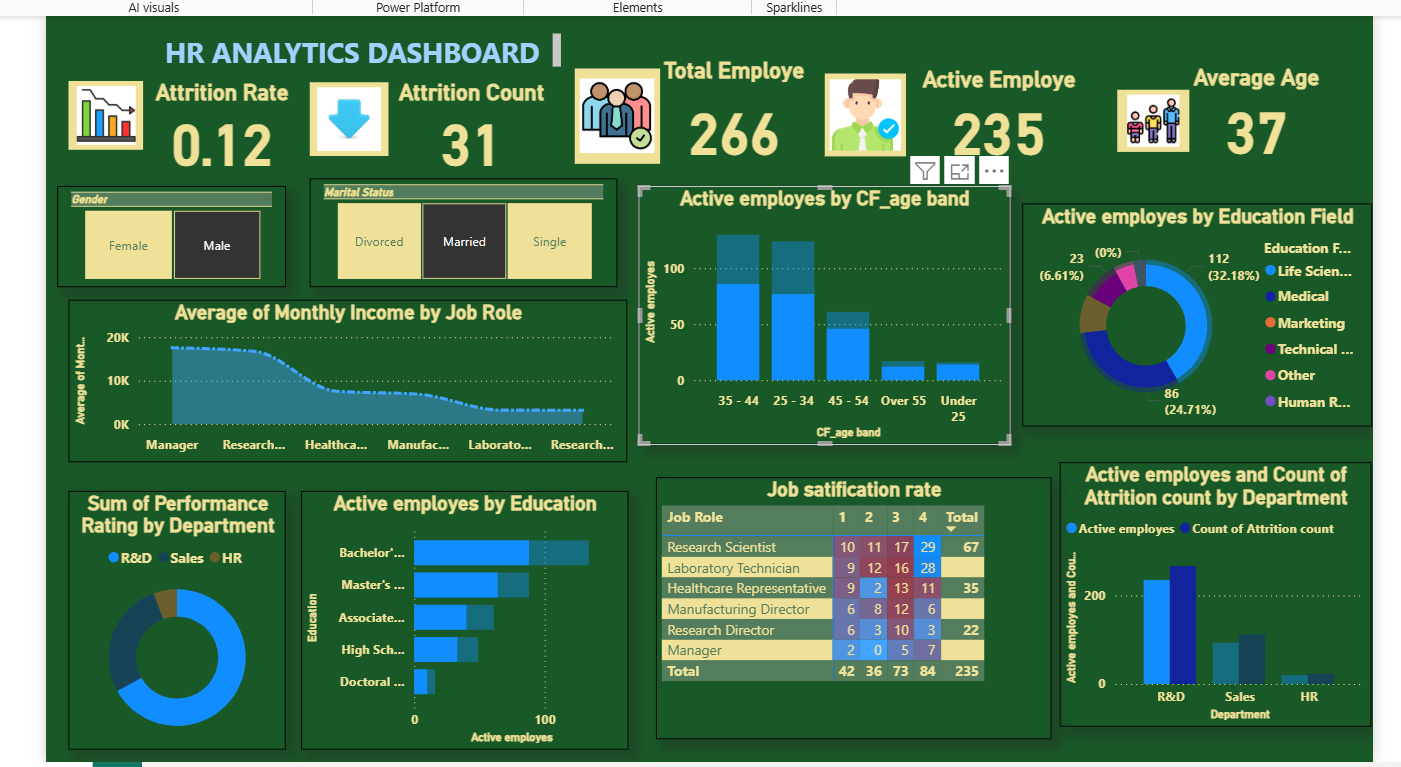

What the dashboard file says about the page in this screenshot:
{"tool":"powerbi","page":{"name":"Page 1","canvas":[1280,720],"ordinal":0},"visuals":[{"type":"card","title":"Total Employe","fields":{"Values":["Sum(HR data.Employee Count)"]},"box":[20.6,16.5,1137.6,111.1],"z":0},{"type":"card","title":"Attrition Count","fields":{"Values":["Sum(HR data.Attrition count)"]},"box":[258,17.8,199,94.7],"z":1000},{"type":"card","title":"Attrition Rate","fields":{"Values":["HR data.Attrition Rate"]},"box":[32.9,16.5,199,94.7],"z":2000},{"type":"card","title":"Active Employe","fields":{"Values":["HR data.Active employes"]},"box":[710.8,17.8,199,94.7],"z":3000},{"type":"card","title":" Average Age","fields":{"Values":["Avg(HR data.Age)"]},"box":[930.4,20.6,199,94.7],"z":4000},{"type":"clusteredColumnChart","fields":{"Category":["HR data.Department"],"Y":["HR data.Active employes","CountNonNull(HR data.Attrition count)"]},"box":[978.4,430.9,300.5,255.2],"z":5000},{"type":"donutChart","fields":{"Category":["HR data.Education Field"],"Y":["HR data.Active employes"]},"box":[942.7,181.1,337.6,215.4],"z":6000},{"type":"columnChart","fields":{"Category":["HR data.CF_age band"],"Y":["HR data.Active employes"]},"box":[572.2,164.7,358.1,249.7],"z":7000},{"type":"pivotTable","title":"Job satification rate","fields":{"Rows":["HR data.Job Role"],"Columns":["HR data.Job Satisfaction"],"Values":["HR data.Active employes"]},"box":[588.7,444.6,381.5,252.5],"z":8000},{"type":"actionButton","box":[0,0,100,40],"z":9000},{"type":"donutChart","fields":{"Y":["Sum(HR data.Performance Rating)"],"Category":["HR data.Department"]},"box":[22,458.3,209.9,249.7],"z":10000},{"type":"clusteredBarChart","fields":{"Category":["HR data.Education"],"Y":["HR data.Active employes"]},"box":[245.6,458.3,315.6,249.7],"z":11000},{"type":"areaChart","fields":{"Category":["HR data.Job Role"],"Y":["Avg(HR data.Monthly Income)"]},"box":[22,274.4,539.3,156.4],"z":12000},{"type":"slicer","fields":{"Values":["HR data.Gender"]},"box":[11,164.7,220.9,97.4],"z":13000},{"type":"slicer","fields":{"Values":["HR data.Marital Status"]},"box":[245.6,161.9,297.8,104.3],"z":14000}]}

Visuals, with their boxes in screenshot pixels (x1, y1, x2, y2):
"Total Employe" card: 47/10/1241/127
"Attrition Count" card: 296/11/505/111
"Attrition Rate" card: 60/10/269/109
"Active Employe" card: 771/11/980/111
" Average Age" card: 1002/14/1211/114
clusteredColumnChart - HR data.Department x HR data.Active employes: 1052/445/1368/713
donutChart - HR data.Education Field x HR data.Active employes: 1015/183/1369/409
columnChart - HR data.CF_age band x HR data.Active employes: 626/166/1002/428
"Job satification rate" pivotTable: 643/459/1044/724
actionButton: 26/0/130/35
donutChart - Sum(HR data.Performance Rating) x HR data.Department: 49/474/269/736
clusteredBarChart - HR data.Education x HR data.Active employes: 283/474/614/736
areaChart - HR data.Job Role x Avg(HR data.Monthly Income): 49/281/615/445
slicer - HR data.Gender: 37/166/269/268
slicer - HR data.Marital Status: 283/163/596/272
